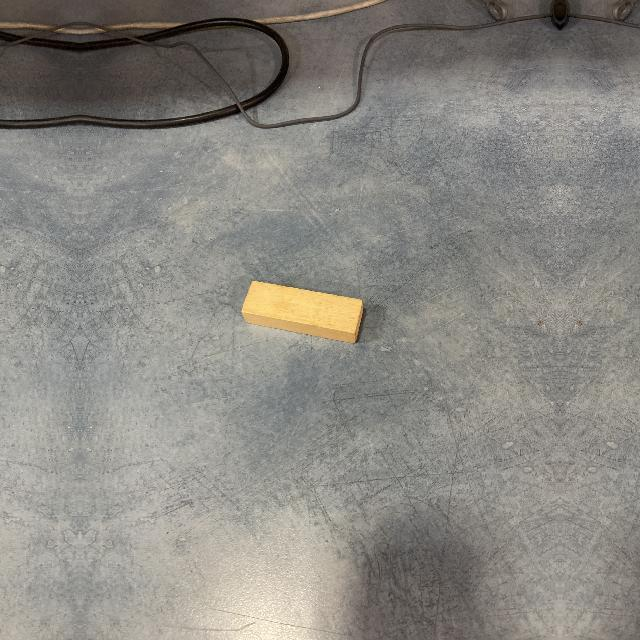jenga: (241, 283, 365, 345)
